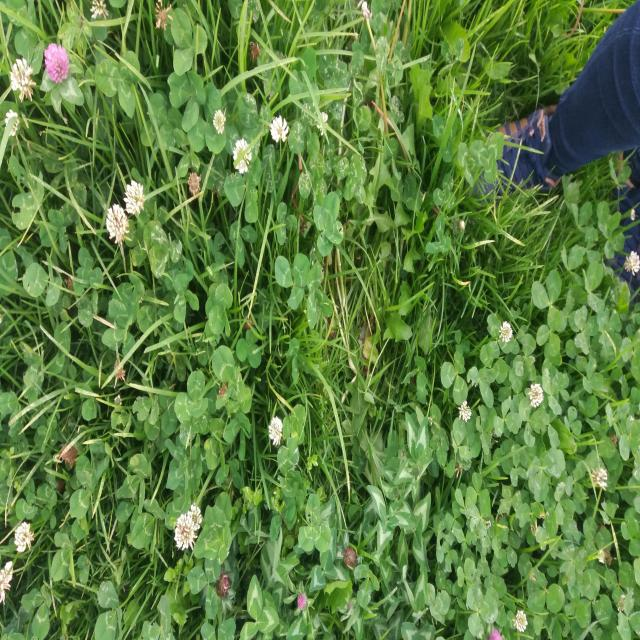Four Leaf Clover: (590, 375, 636, 431), (547, 513, 589, 573), (312, 191, 344, 257)
